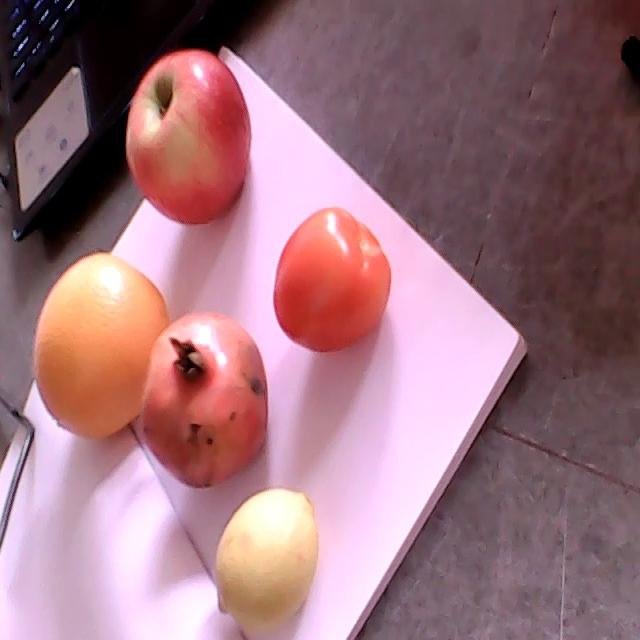apple: (124, 49, 250, 222)
lemon: (215, 488, 321, 632)
orange: (34, 253, 170, 437)
pomegranate: (140, 308, 269, 486)
tomato: (271, 206, 393, 351)
